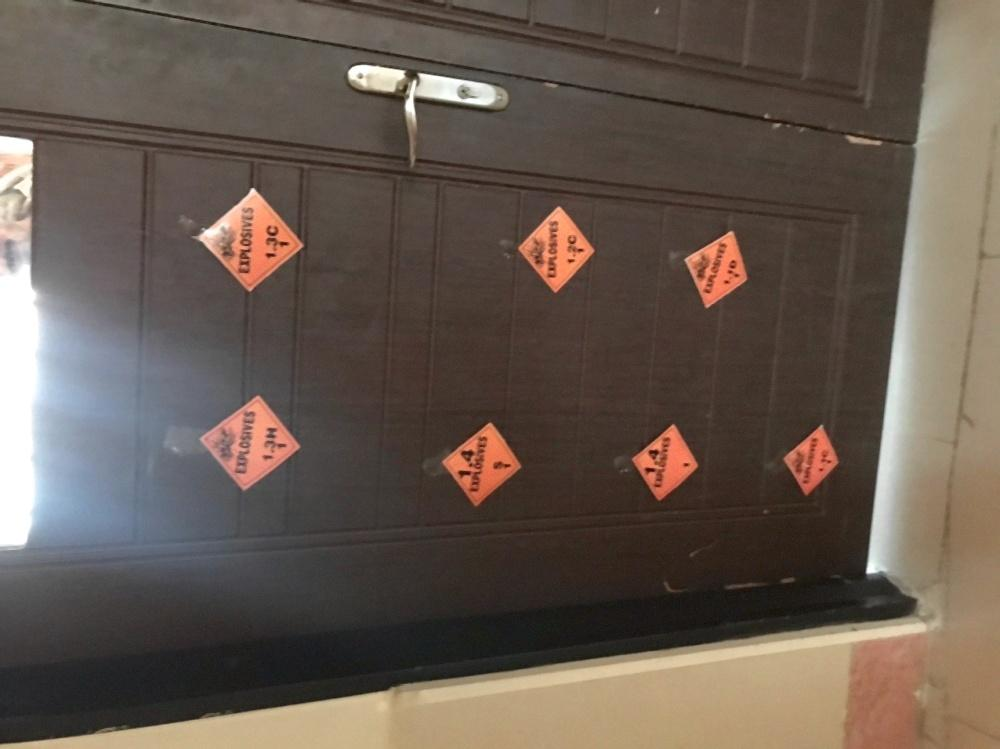explosive: (194, 184, 307, 297), (195, 390, 301, 493), (433, 419, 525, 508), (514, 204, 598, 297), (620, 419, 707, 505), (684, 225, 754, 310), (780, 421, 840, 500)
